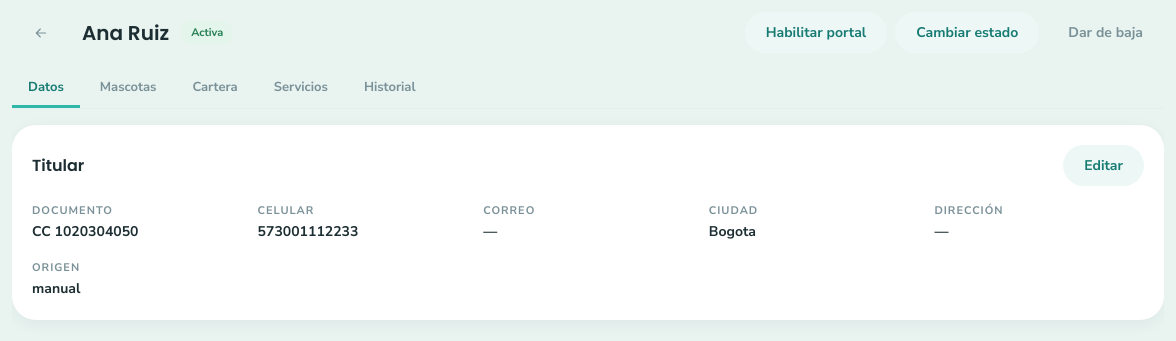
FamiliaDetallePage › lista las mascotas con el nombre de la especie del catálogo
Click the tab "Mascotas".
click(128, 89)  # box [84, 69, 172, 108]
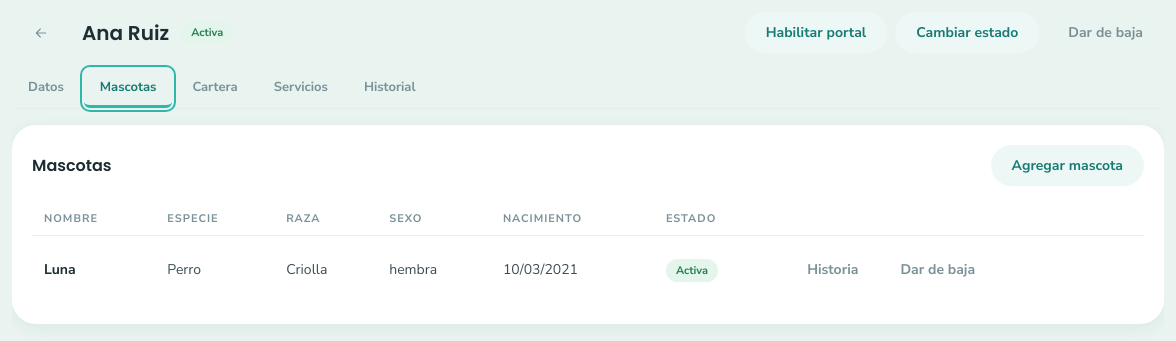
Expected: the text "Luna" is shown, [32, 236, 155, 304]
Expected: the text "Perro" is shown, [155, 236, 274, 304]
